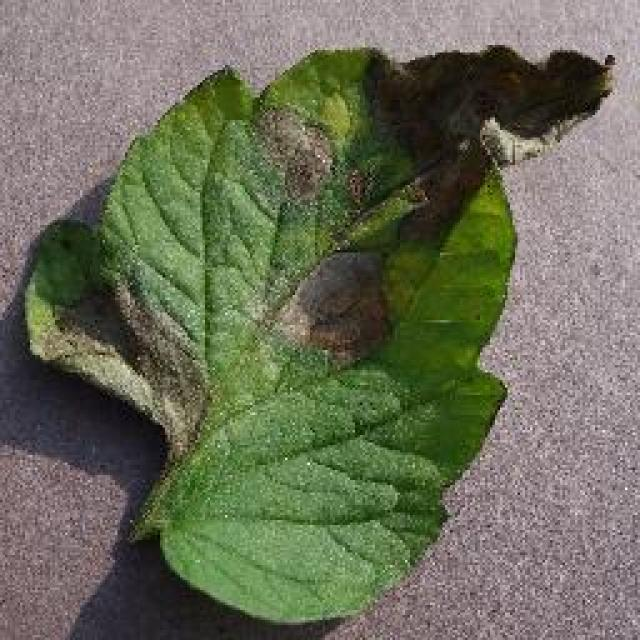Tomato late blight leaf: (24, 49, 614, 624)
